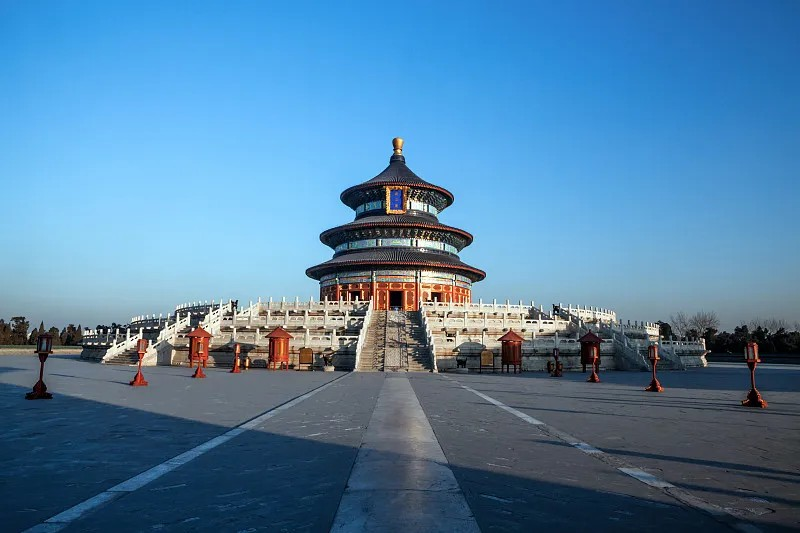Heaven: (304, 137, 488, 310)
